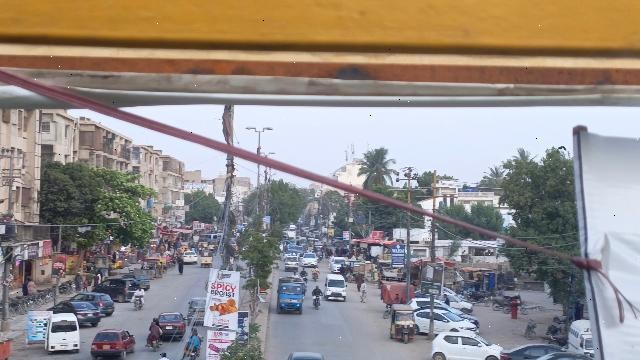Bike: (148, 335, 161, 353), (132, 295, 144, 311), (311, 294, 322, 311), (187, 347, 200, 360)
Car: (429, 330, 504, 360), (413, 308, 478, 336), (89, 327, 136, 358), (46, 301, 101, 325), (91, 277, 134, 303), (71, 290, 115, 314), (159, 311, 186, 336), (186, 297, 209, 324)
Person: (188, 326, 202, 347), (147, 317, 161, 337), (359, 277, 368, 304), (310, 284, 323, 297), (134, 284, 145, 297)
Rickshaw: (386, 303, 417, 344)
Suzuki: (566, 318, 594, 355)
Truck: (274, 276, 306, 317)
Van: (45, 311, 81, 356), (323, 273, 347, 303)
